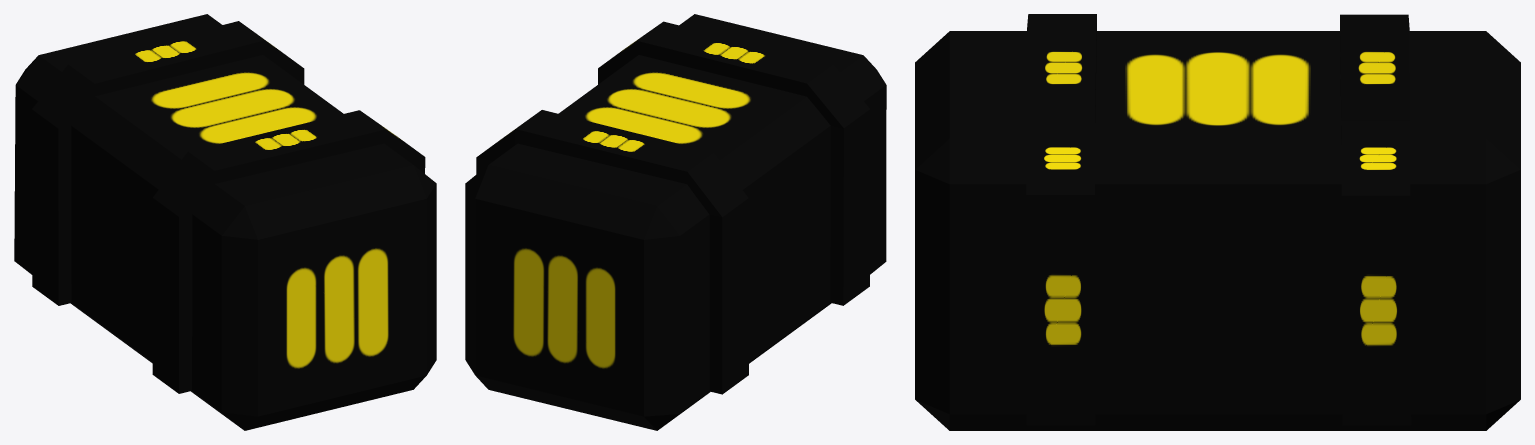
Rendered from ammoBox.glb.
3 renders of one model, left to right at view 1: azimuth 30°, elevation 25°; view 2: azimuth 150°, elevation 25°; view 3: azimuth 270°, elevation 25°, orthographic. The views are drawn at different scales.
Parts seen in each view (by area): view 1: Cube.001; view 2: Cube.001; view 3: Cube.001.
Part boxes in pixels (x1,y1,x2,y2): Cube.001: (14,14,436,430); Cube.001: (465,14,886,430); Cube.001: (915,14,1520,430).
Bounding box in the file's own units: 0.5321 × 0.4924 × 0.8702.
1 material, 1 textured.
